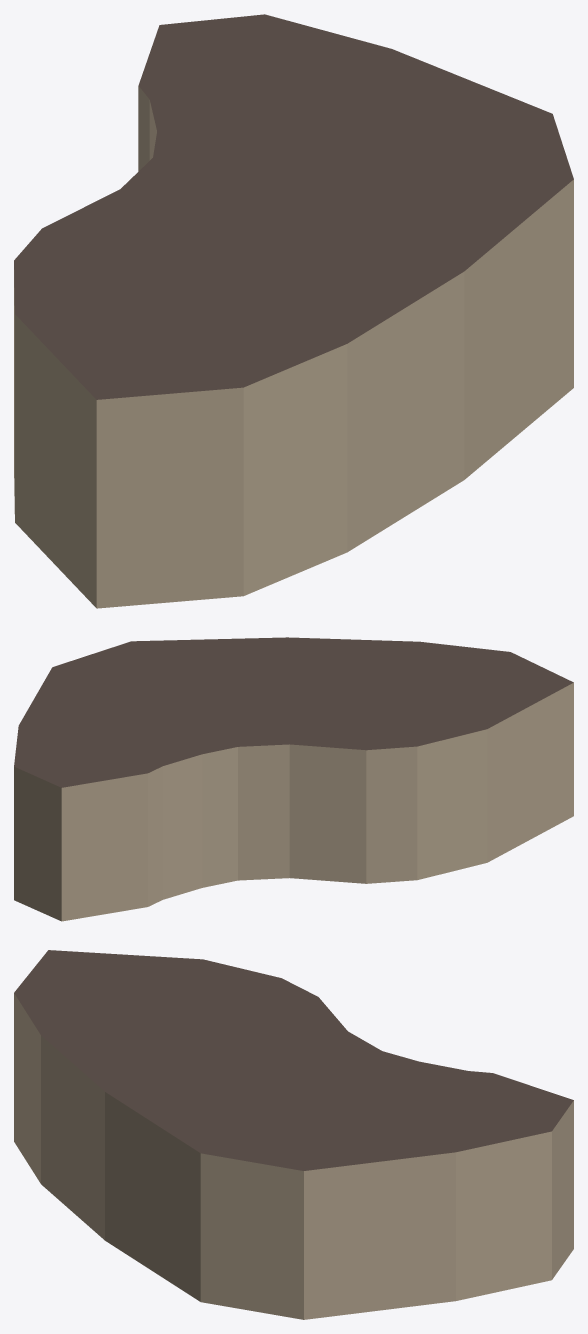
3 views of the same model, one above another, from view 1: azimuth 30°, elevation 25°; view 2: azimuth 150°, elevation 25°; view 3: azimuth 270°, elevation 25° (orthographic). The views are drawn at different scales.
Visible parts, largest first — view 1: HP-w372180393; view 2: HP-w372180393; view 3: HP-w372180393.
Part boxes in pixels (box(x1,y1,x2,y2)): HP-w372180393: box(14, 14, 573, 608); HP-w372180393: box(14, 637, 573, 921); HP-w372180393: box(14, 950, 573, 1319).
Bounding box in the file's own units: 28.67 × 9 × 30.69.
